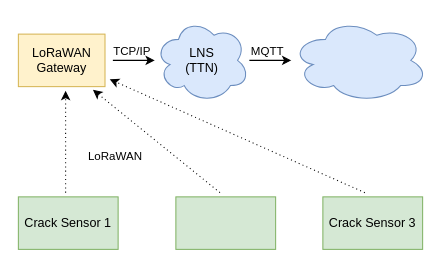
Some shapes in this 446 by 268 pixel diagram are drawn without their labels. Here are the shapes that lost their labels. From the top down, the centre of each, then its label:
At pixel 359 59: "Database & Webinterface".
At pixel 225 222: "Crack Sensor 2".
